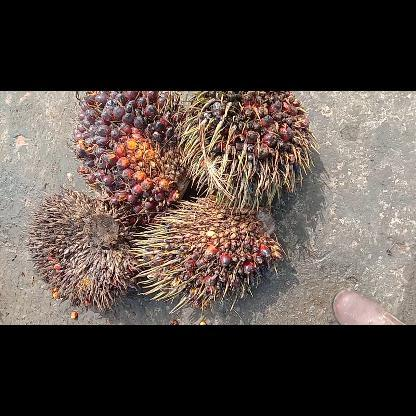Kurang masak: (186, 91, 310, 205)
TBS abnormal: (136, 194, 280, 312), (28, 188, 134, 312)
Terlalu masak: (72, 91, 190, 215)
